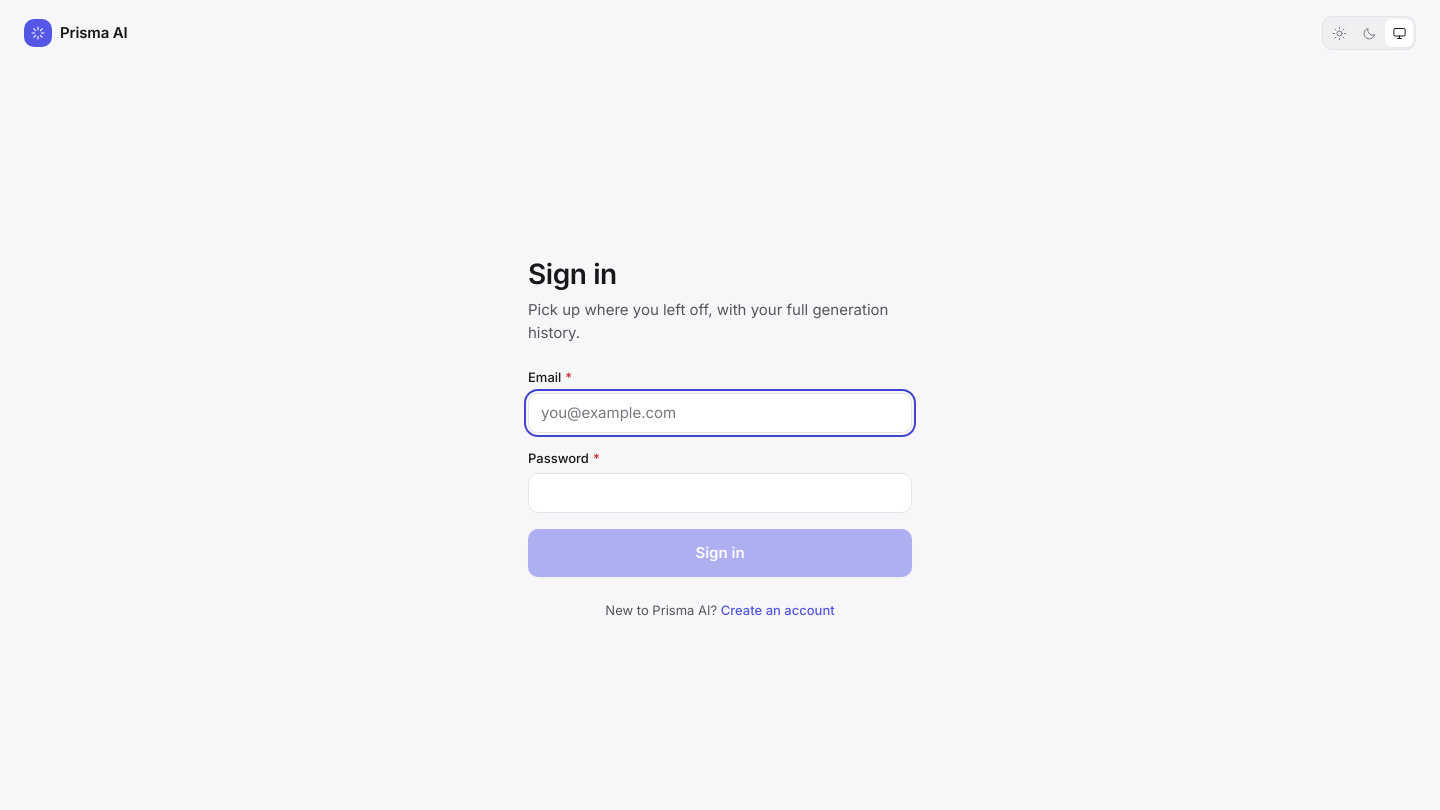
Test: sign in › keeps the button disabled until both fields are filled
Expected: the button "Sign in" is disabled, x1=528 y1=529 x2=912 y2=577
Step 1. Type "painter@example.com" into the field labelled "Email*" → (720, 413), box x1=528 y1=393 x2=912 y2=433
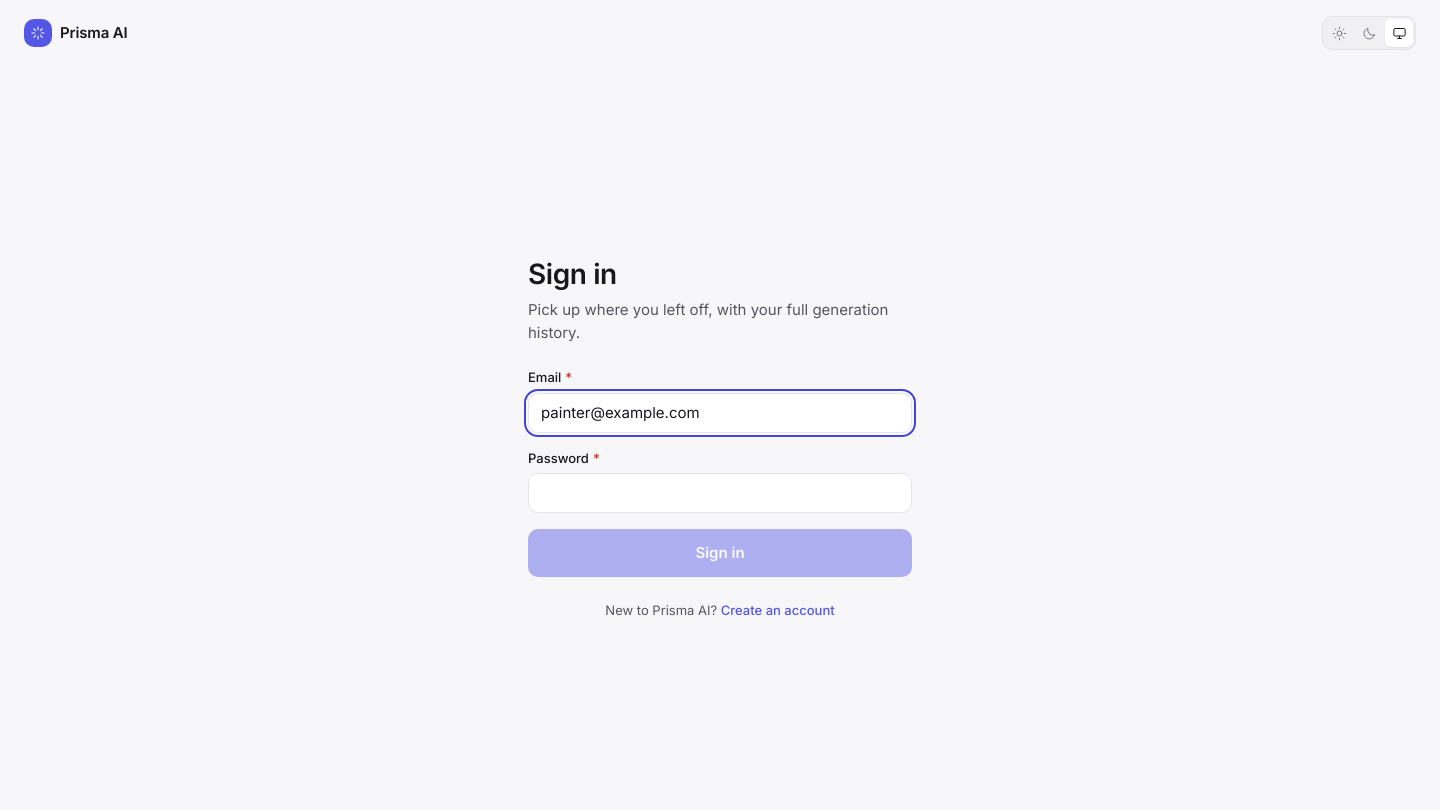
Expected: the button "Sign in" is disabled, x1=528 y1=529 x2=912 y2=577
Step 2. Type "correct-horse" into the password field labelled "Password*" → (720, 493), box x1=528 y1=473 x2=912 y2=513
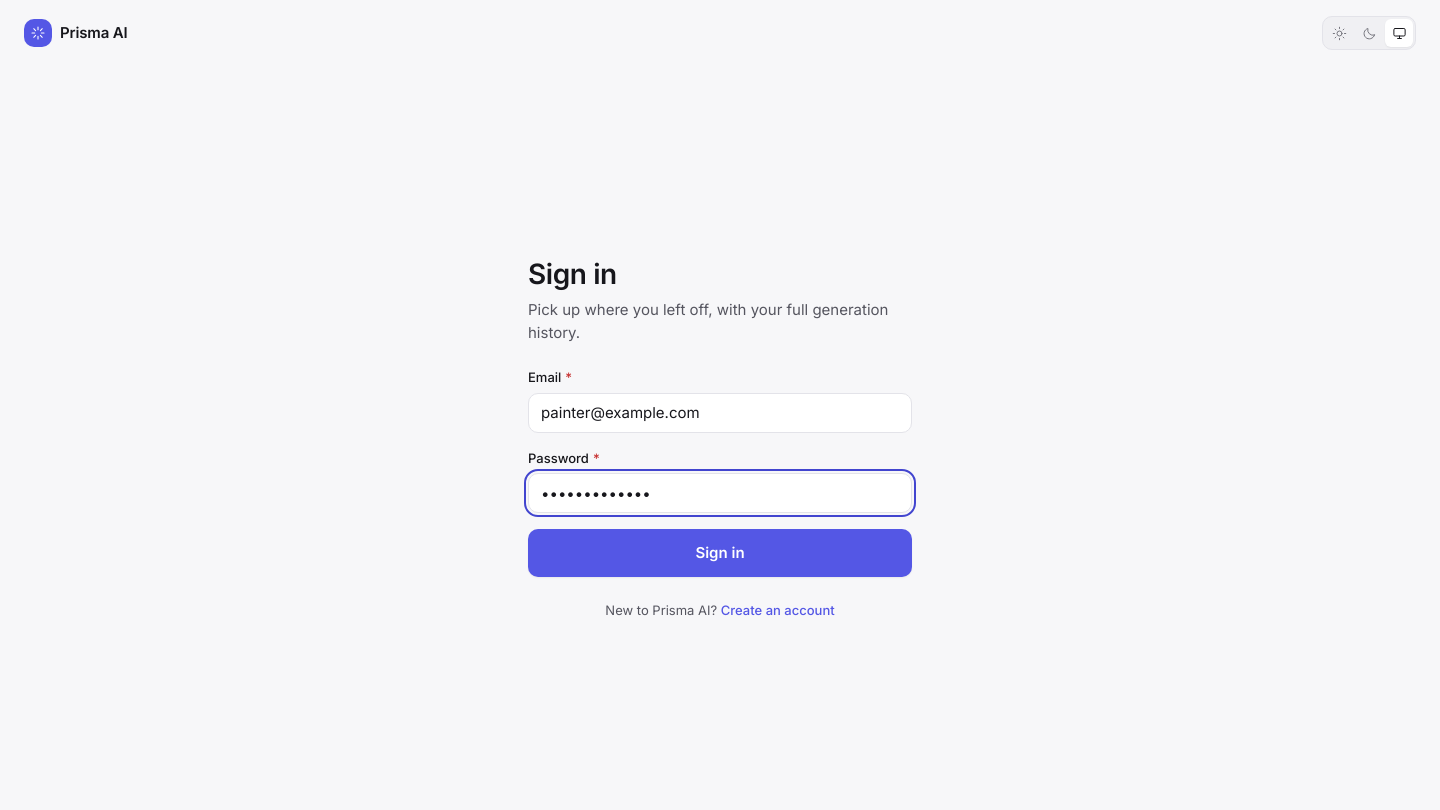
Expected: the button "Sign in" is enabled, x1=528 y1=529 x2=912 y2=577
